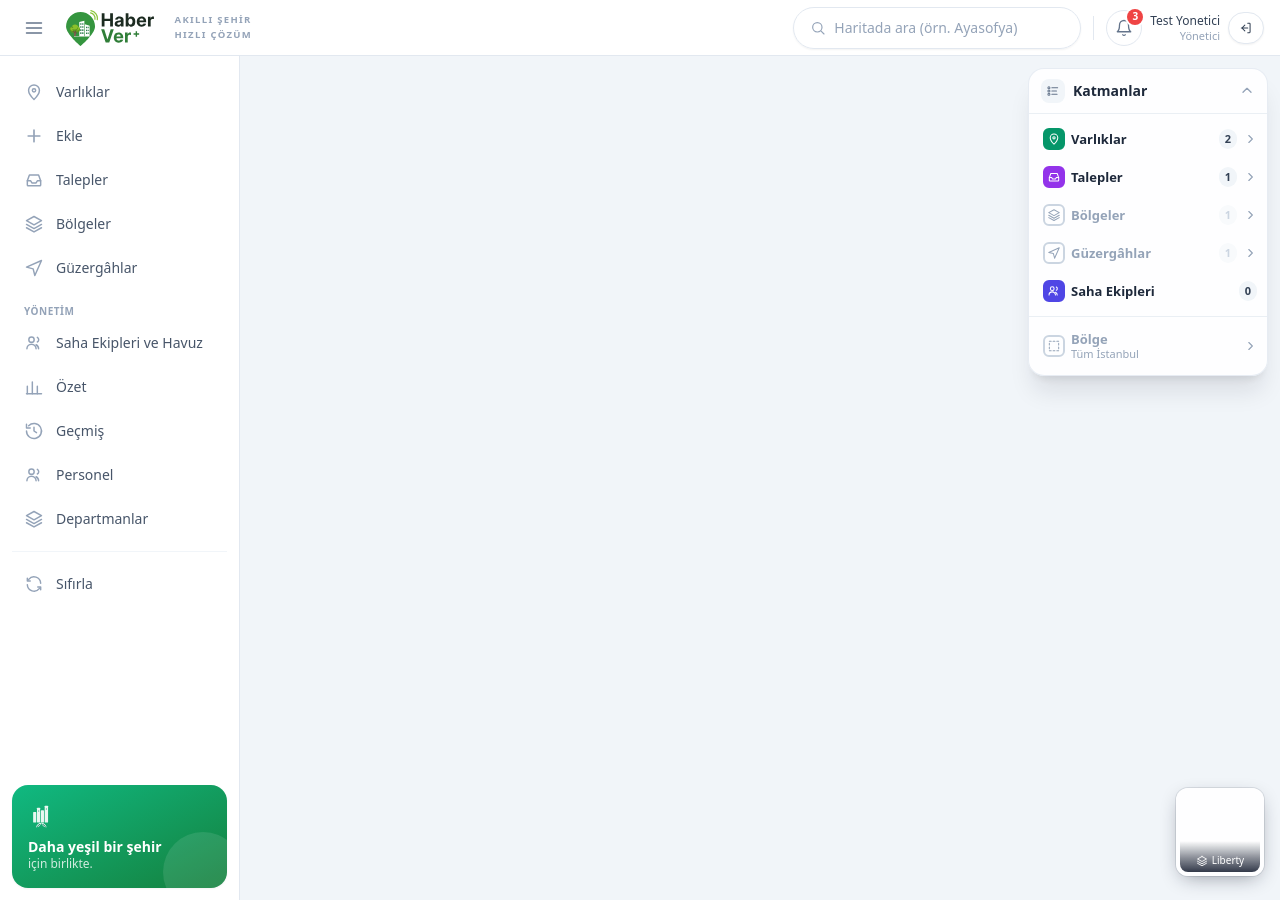
Test: App - tur/durum filtresi tek kaynaktan beslenir › panelden tur secmek listeyi daraltir, geri alinca eski hale doner
Click the button "Varlıklar": [120, 92] box [12,72,227,112]
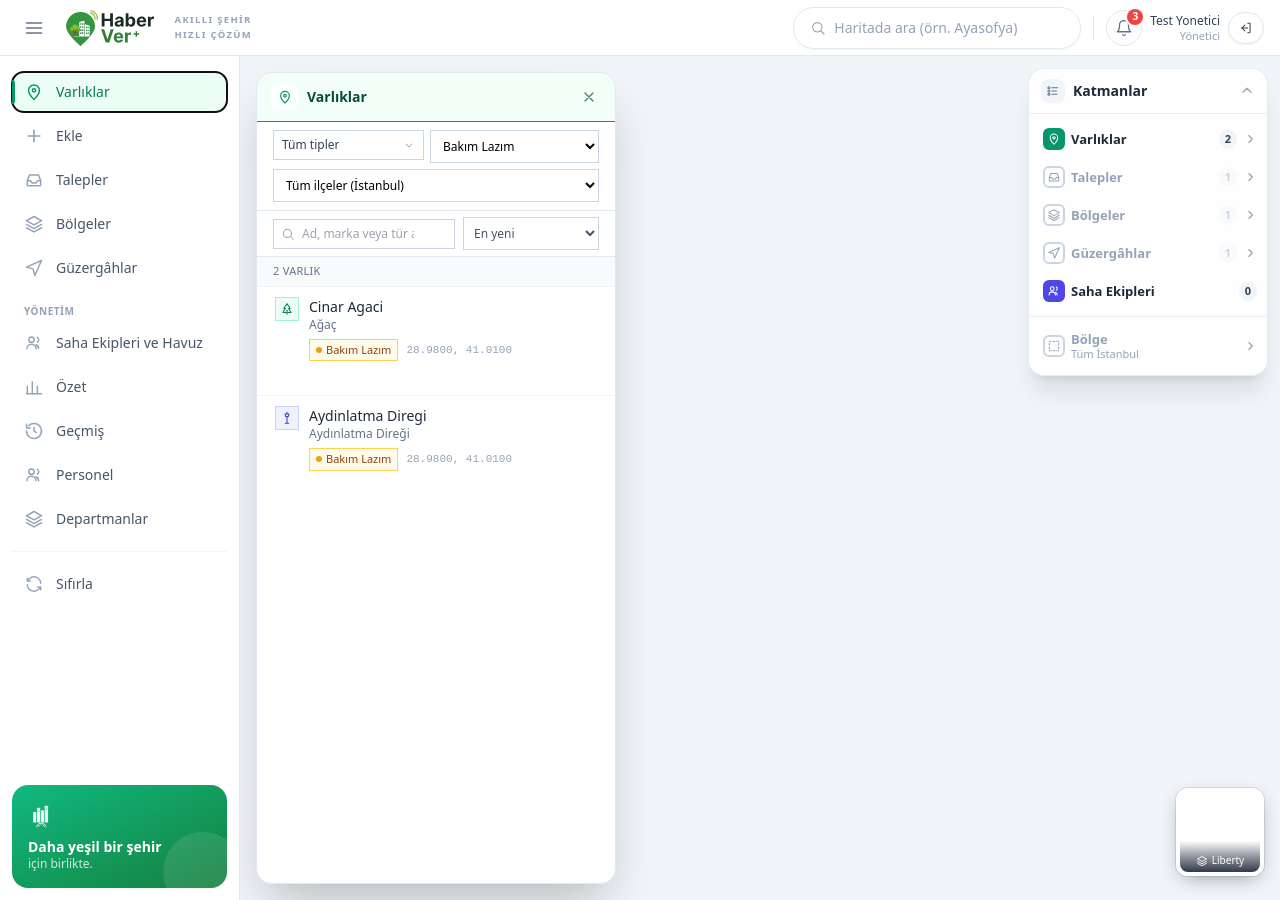
expect the text "Aydinlatma Diregi" is shown: met, box [309,406,426,425]
Click the button "Tüm tipler": [348, 145] box [273,130,424,160]
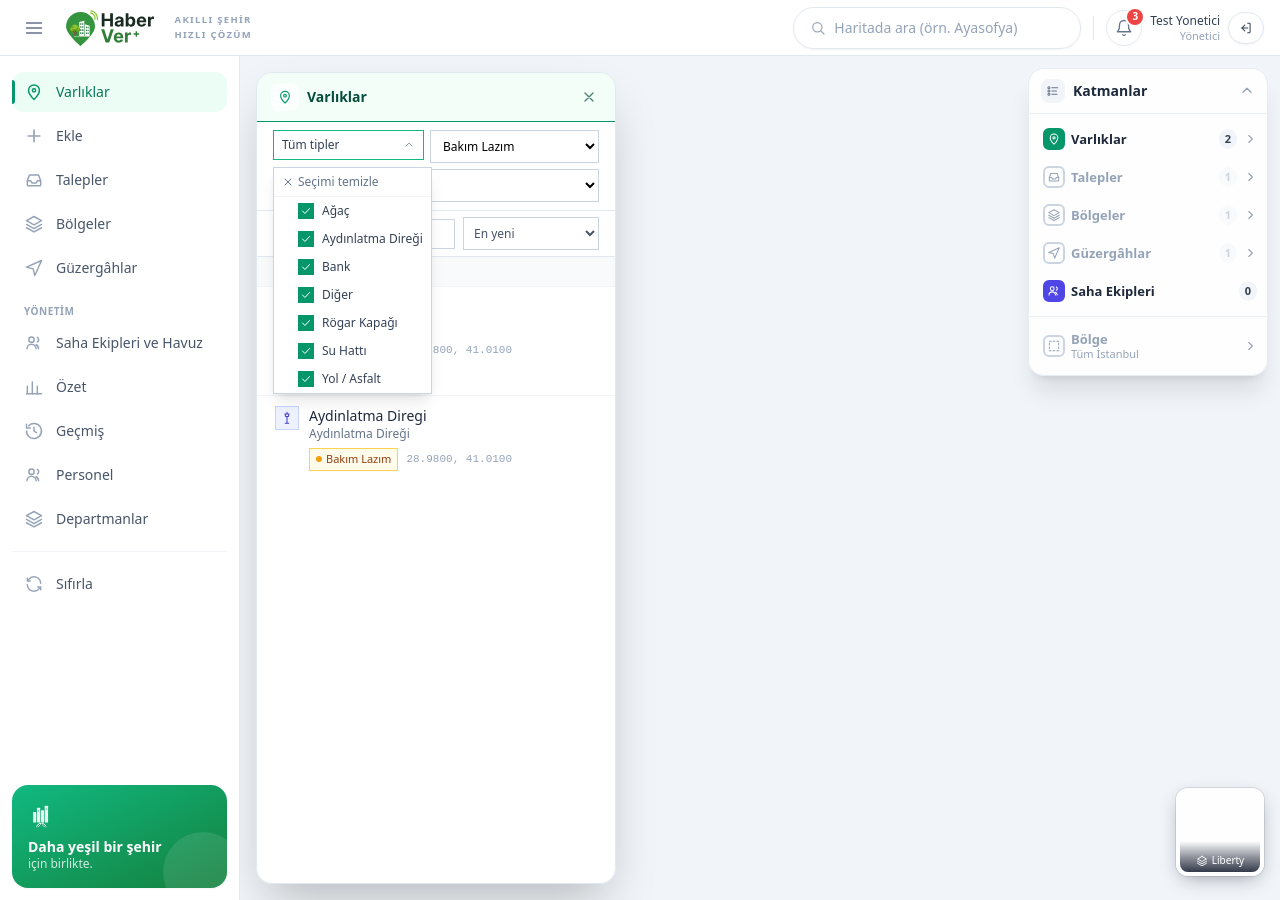
Click the checkbox "Aydınlatma Direği": [360, 238] box [298,230,423,247]
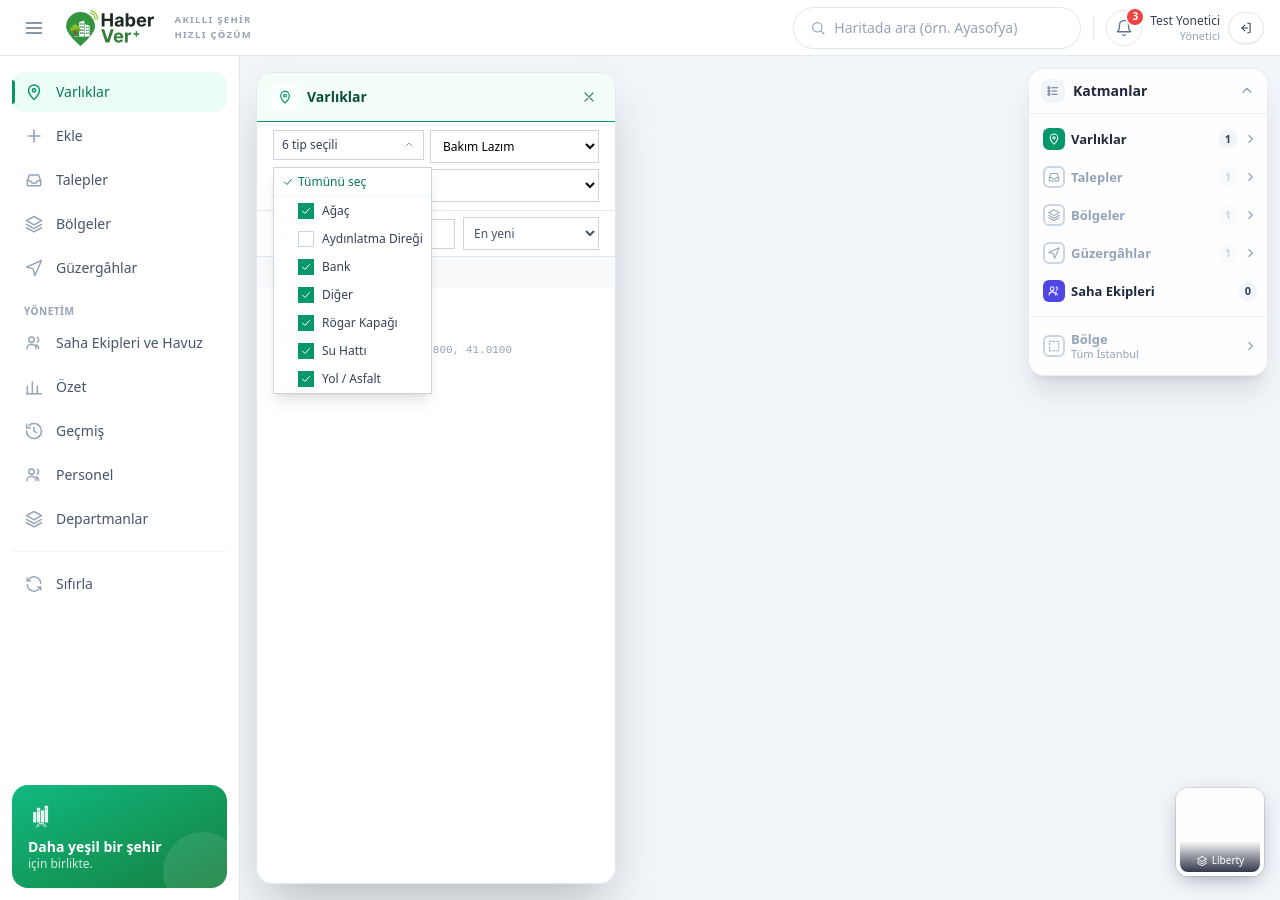
Click the button "Tümünü seç": [352, 182] box [274,168,431,197]
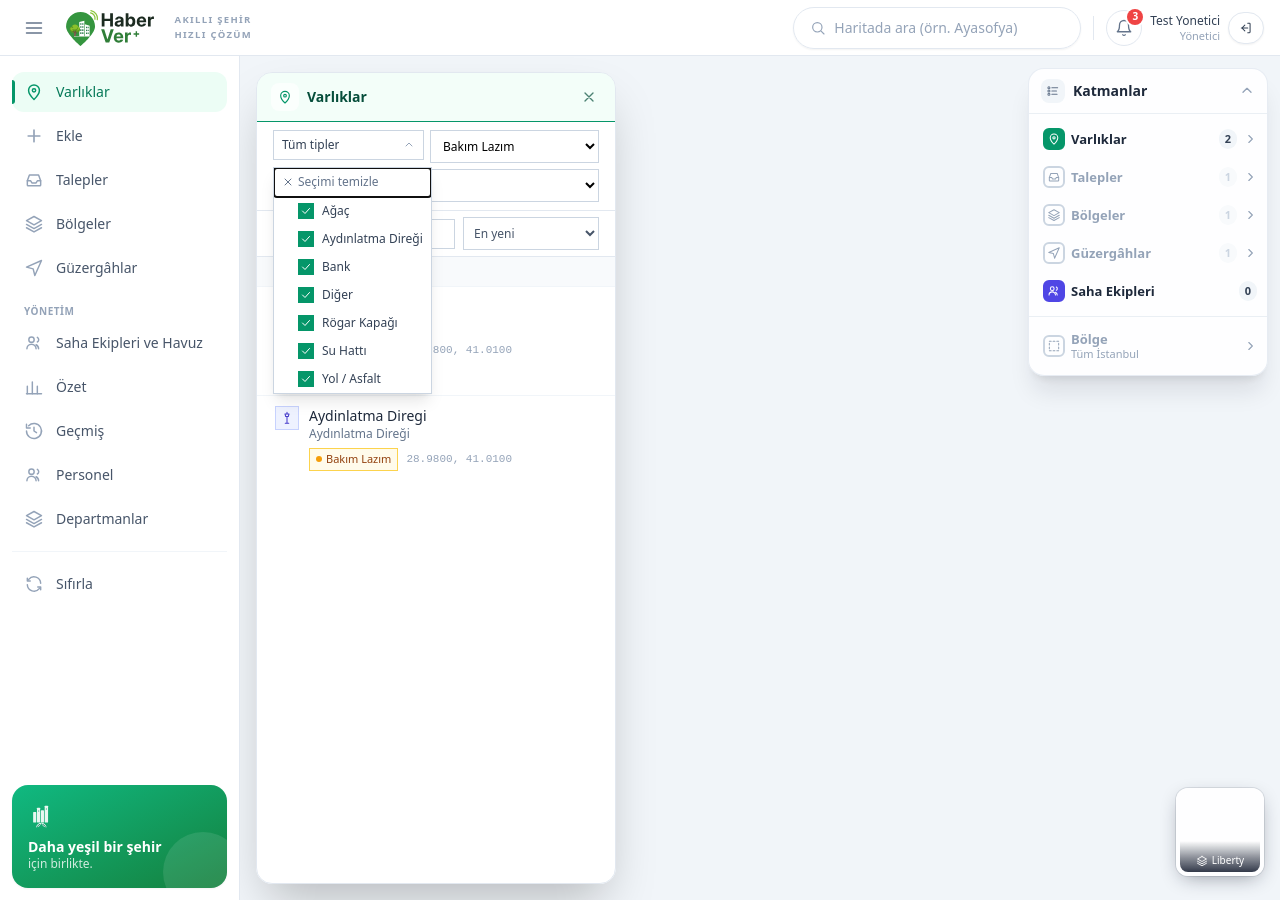
expect the text "Cinar Agaci" is shown: met, box [309,296,383,316]
expect the text "Aydinlatma Diregi" is shown: met, box [309,406,426,425]
